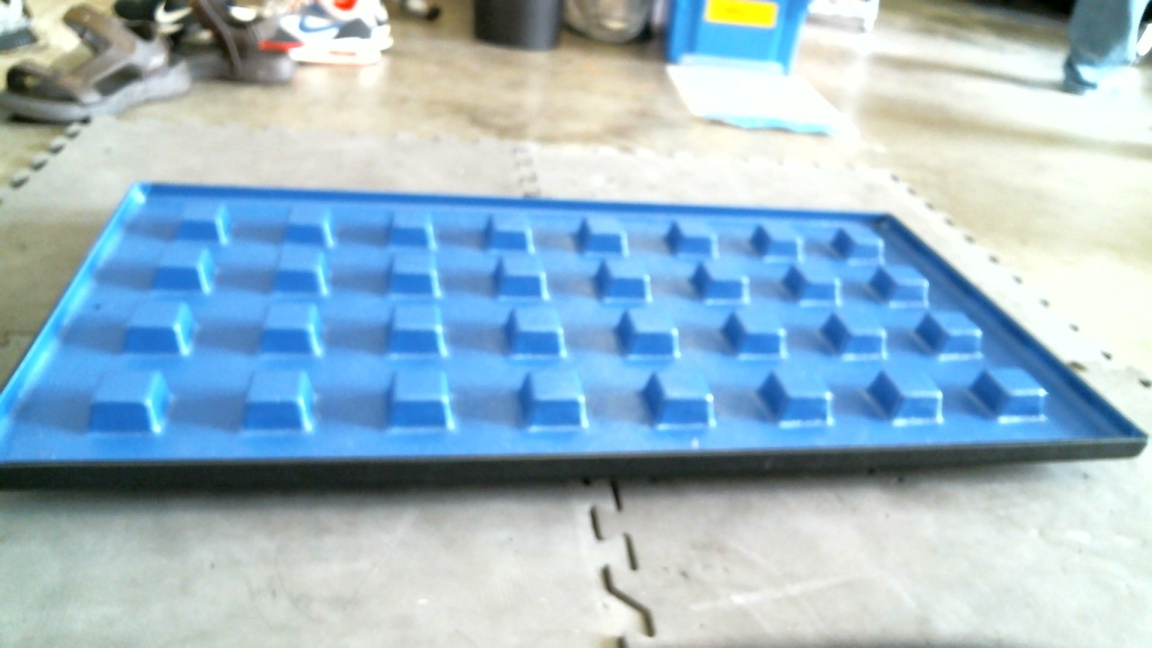blue_foundation: (1, 180, 1148, 464)
